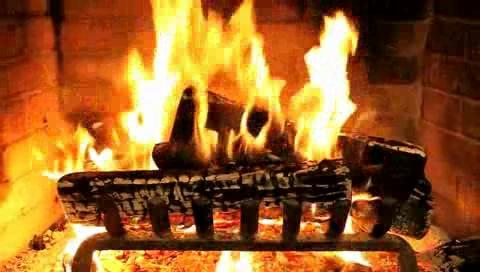fire: (110, 0, 364, 182)
